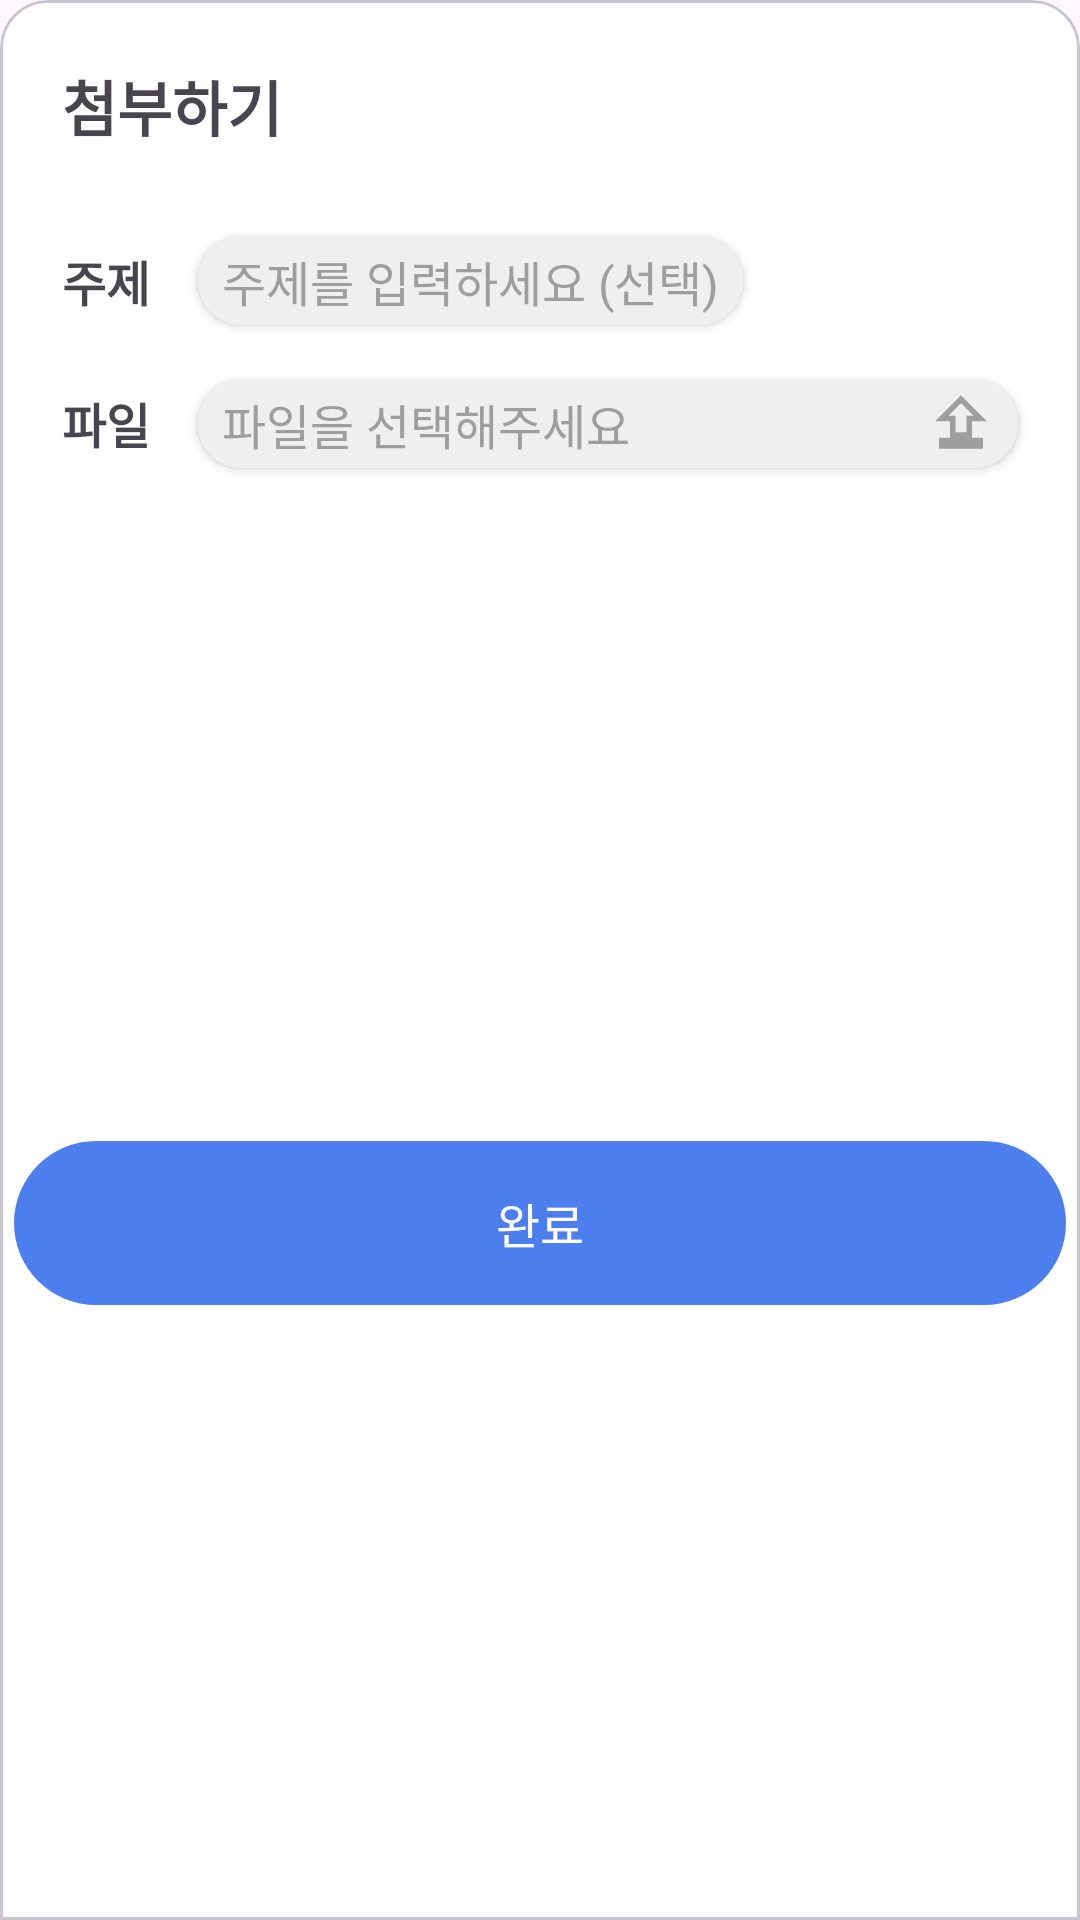

Screen size 1080 x 1920. Icon name, then its box in pixels as box(x1, y1, x2, y2):
upload: box(936, 396, 986, 449)
